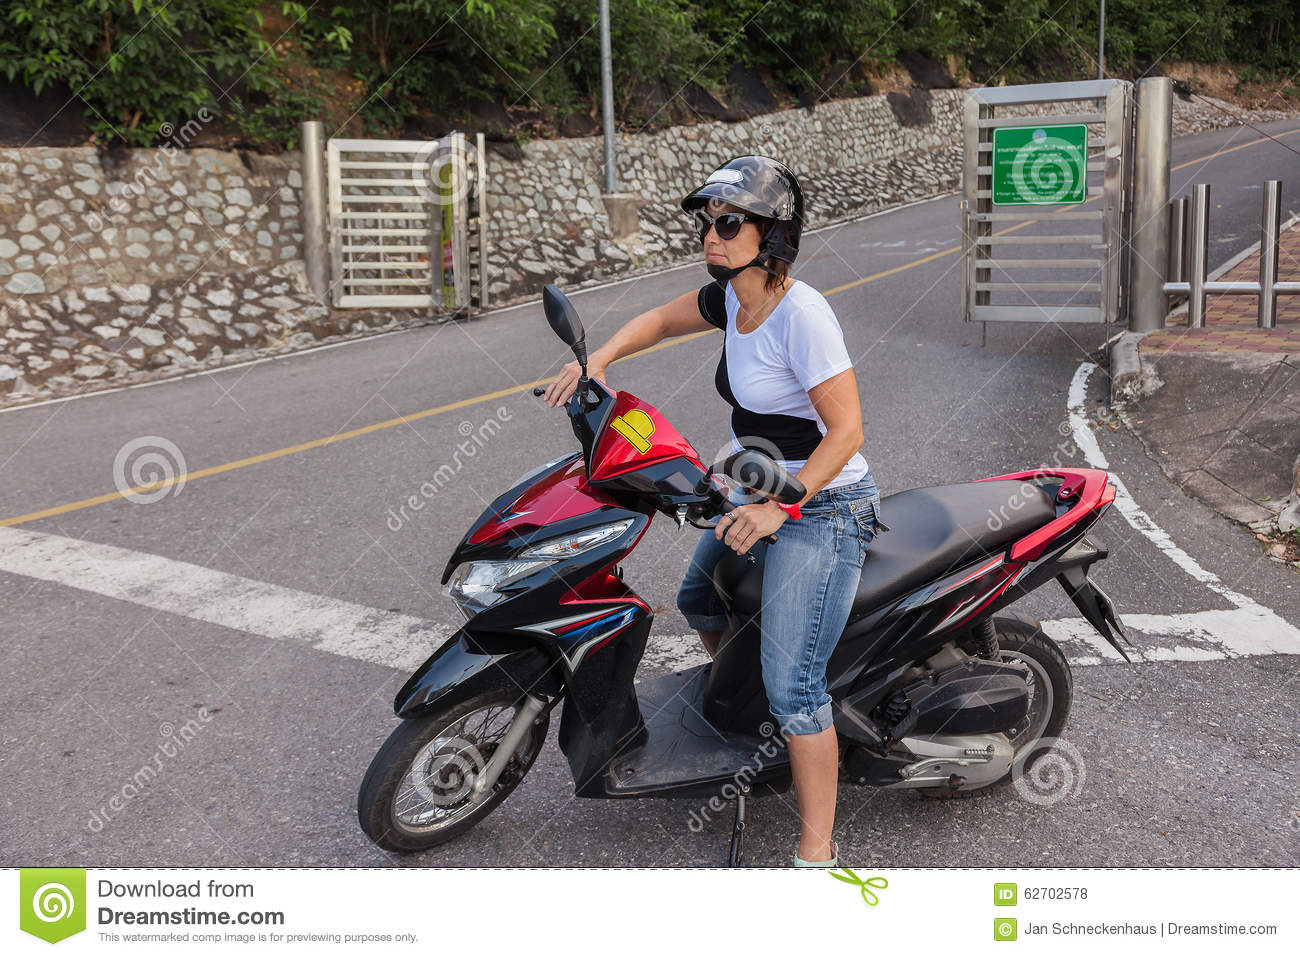helmet: (689, 154, 811, 232)
